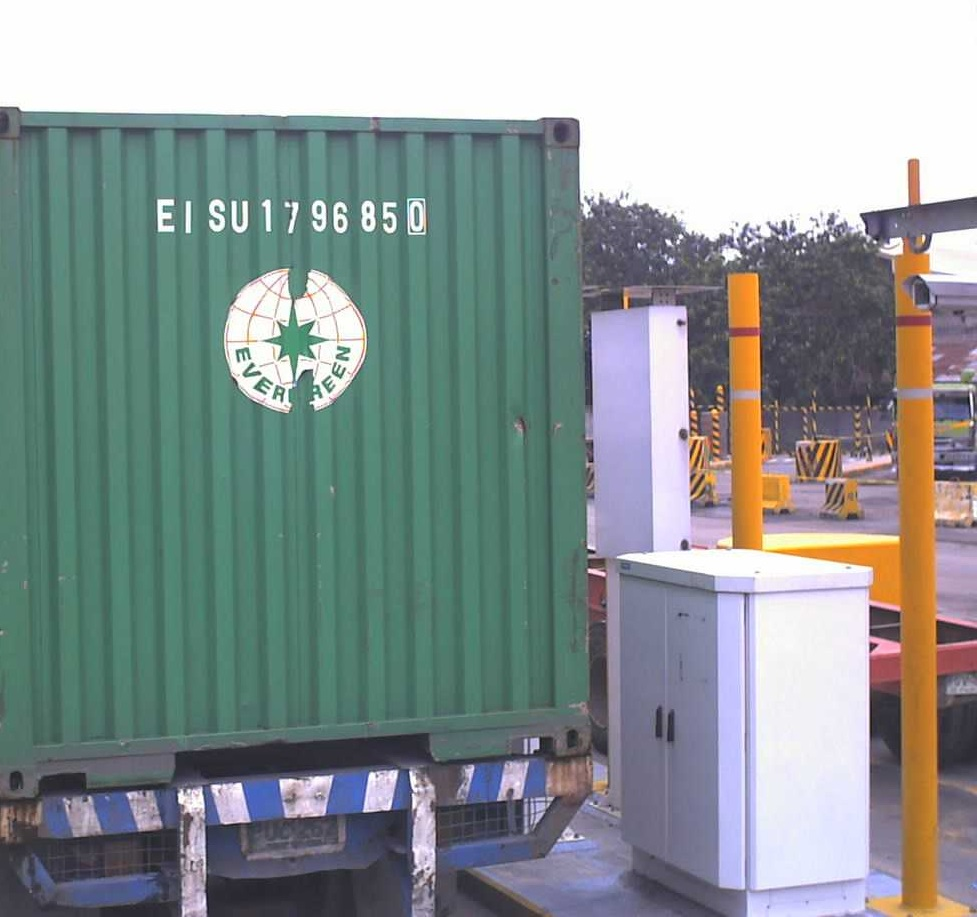container_no_door: (6, 116, 578, 800)
